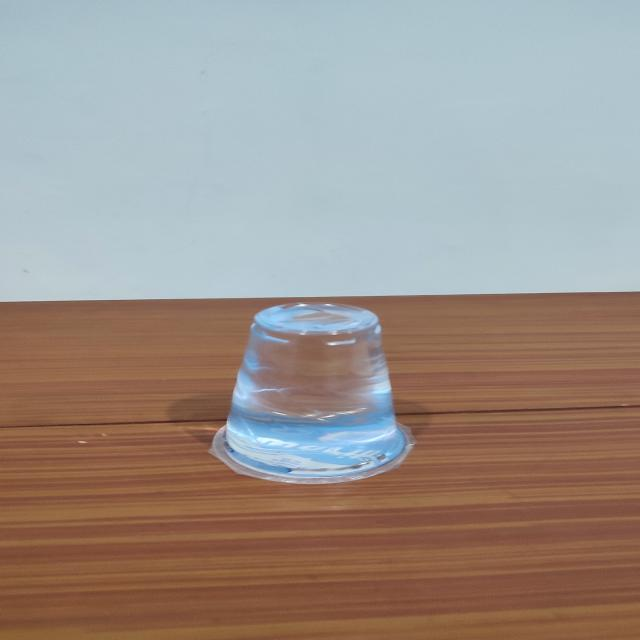air gelas: (188, 298, 435, 490)
